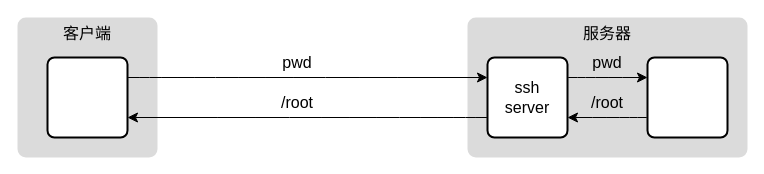
This 764x174 diagram has some shape labels left out. Here are the shapes that lost their labels. From the top down, the centre of each, then its label:
(x=87, y=97): ssh client
(x=687, y=97): shell
